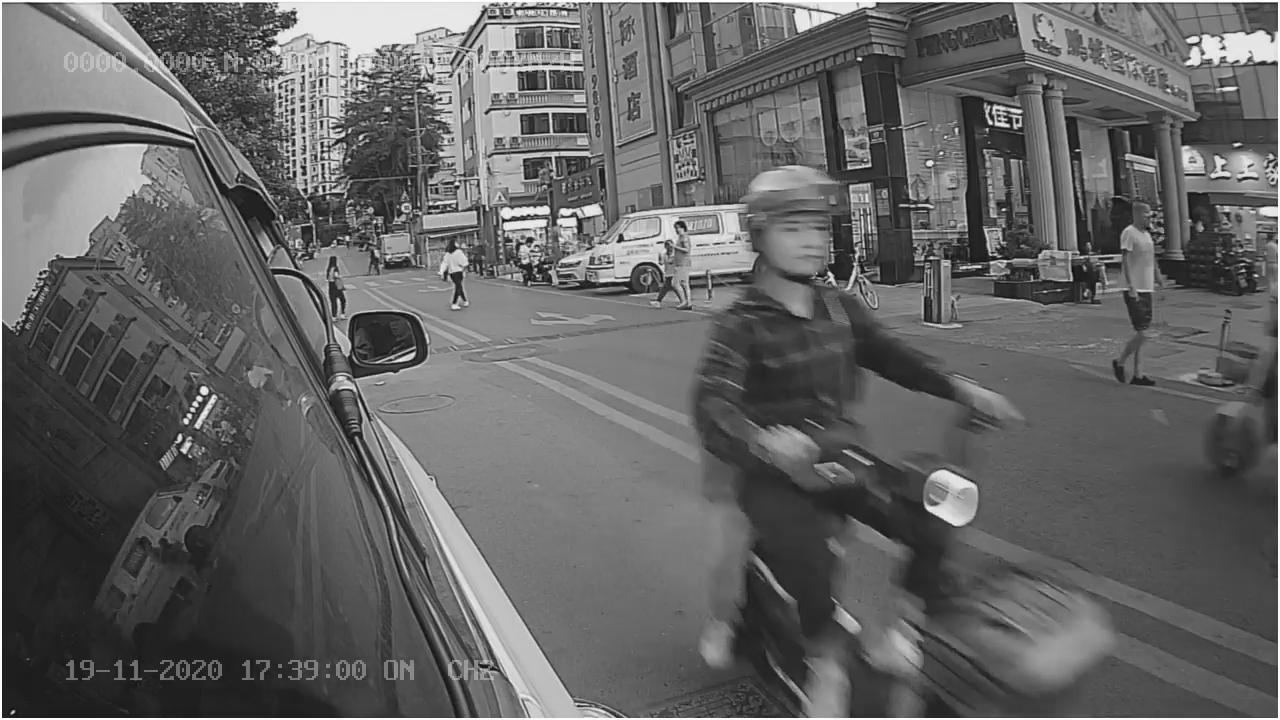person: (699, 178, 919, 511)
